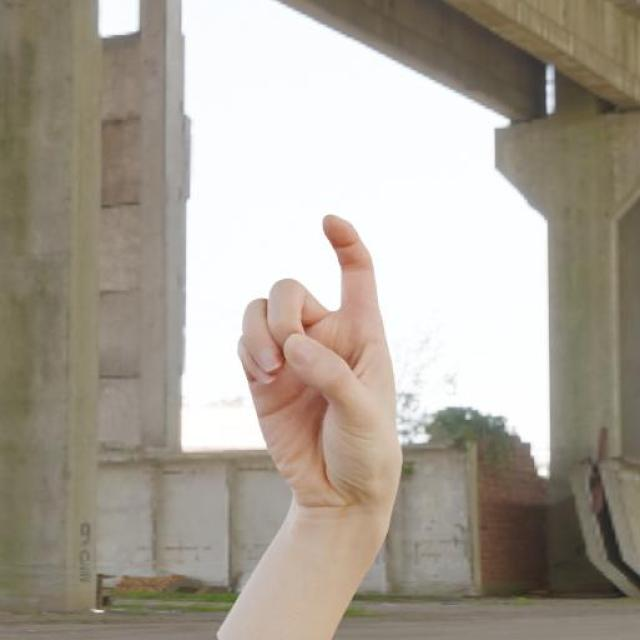X: (226, 206, 428, 519)
